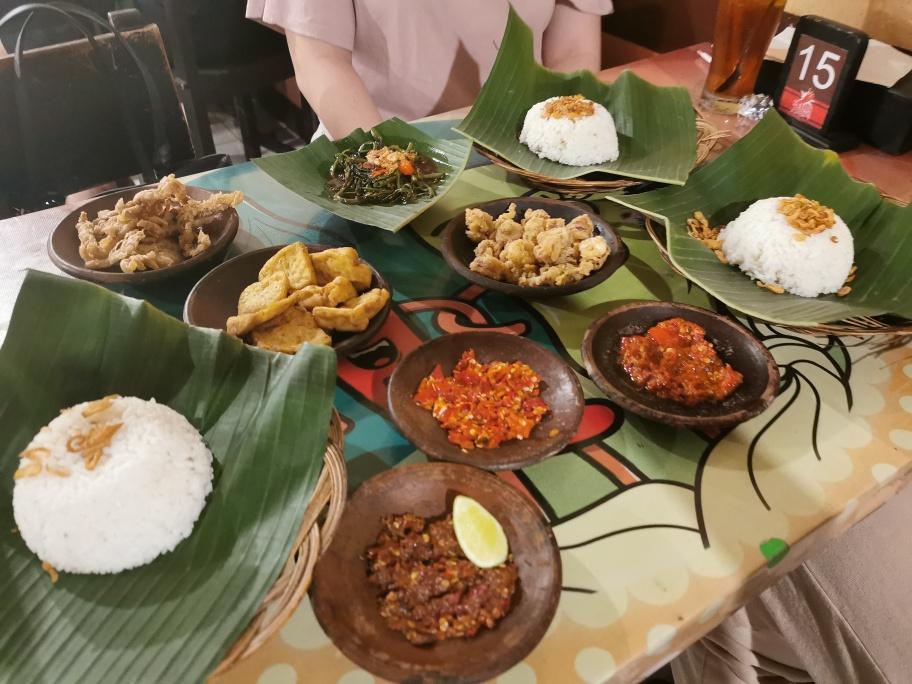nasi putih: (11, 394, 215, 572), (717, 192, 861, 300), (515, 90, 623, 167)
